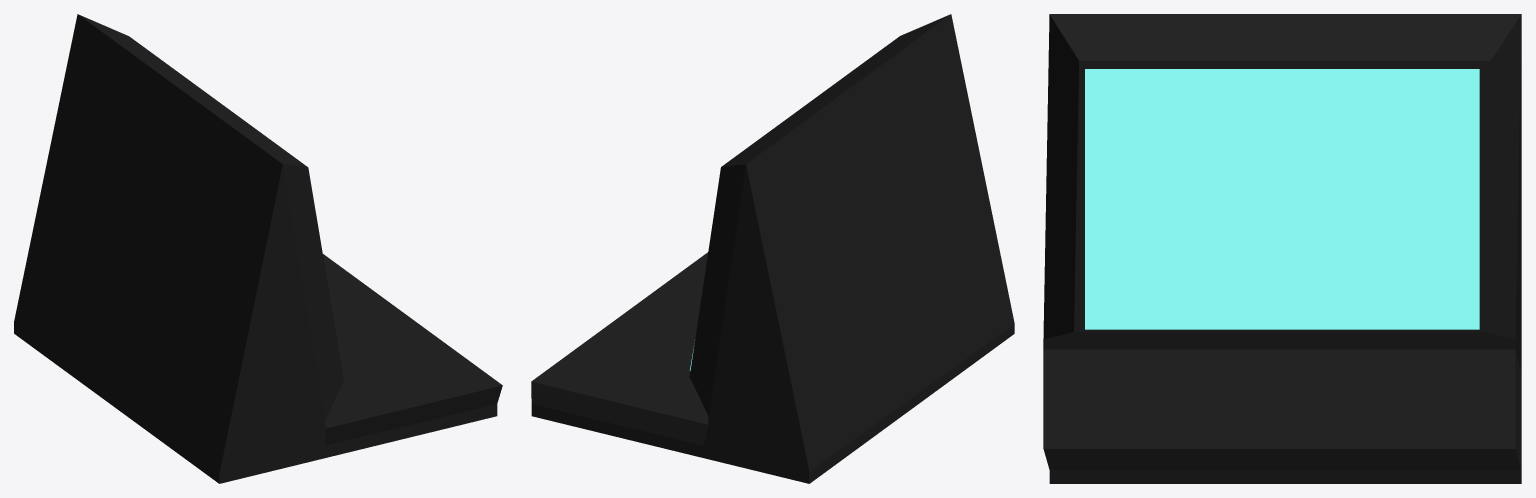
The model's file is computer.glb.
The picture shows the model from 3 angles, left to right: view 1: azimuth 30°, elevation 25°; view 2: azimuth 150°, elevation 25°; view 3: azimuth 270°, elevation 25°; orthographic projection. The views are drawn at different scales.
Parts seen in each view (by area): view 1: Cube; view 2: Cube; view 3: Cube, Plane.
Part boxes in pixels (x1=…): Cube: x1=14, y1=14, x2=502, y2=483; Cube: x1=531, y1=14, x2=1014, y2=483; Cube: x1=1043, y1=14, x2=1521, y2=483; Plane: x1=1085, y1=69, x2=1479, y2=329.
Size of the model in its own units: 0.7627 by 0.7894 by 0.978.
